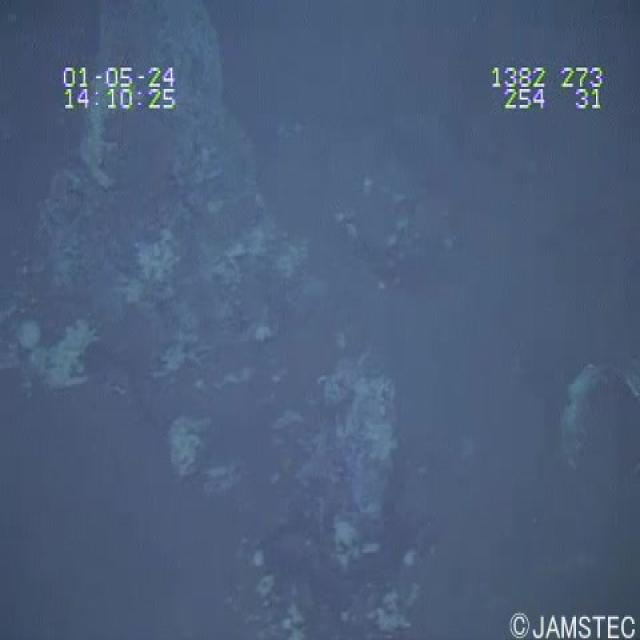plastic: (554, 345, 638, 492)
